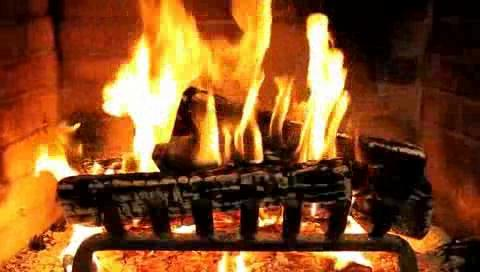fire: (108, 15, 350, 168)
